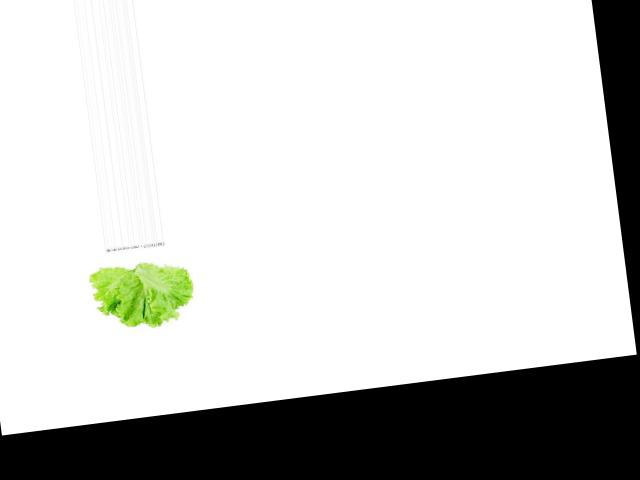lettuce: (85, 243, 200, 335)
